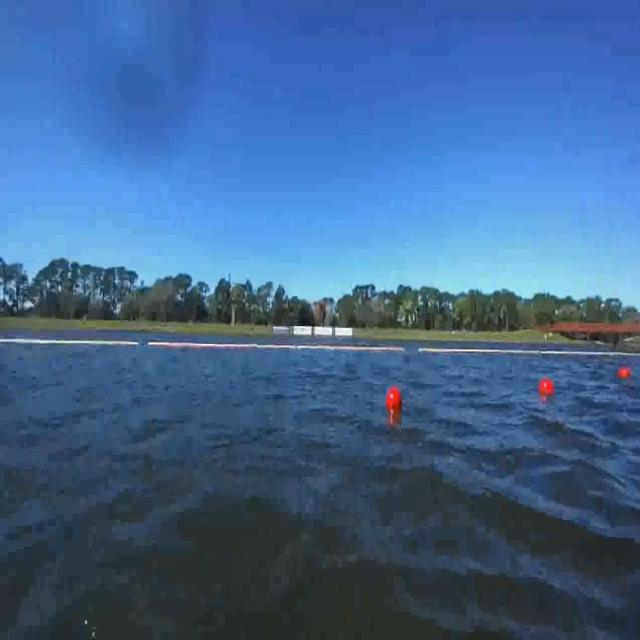red-buoy: (385, 385, 399, 410), (614, 364, 632, 382), (540, 376, 556, 394)
